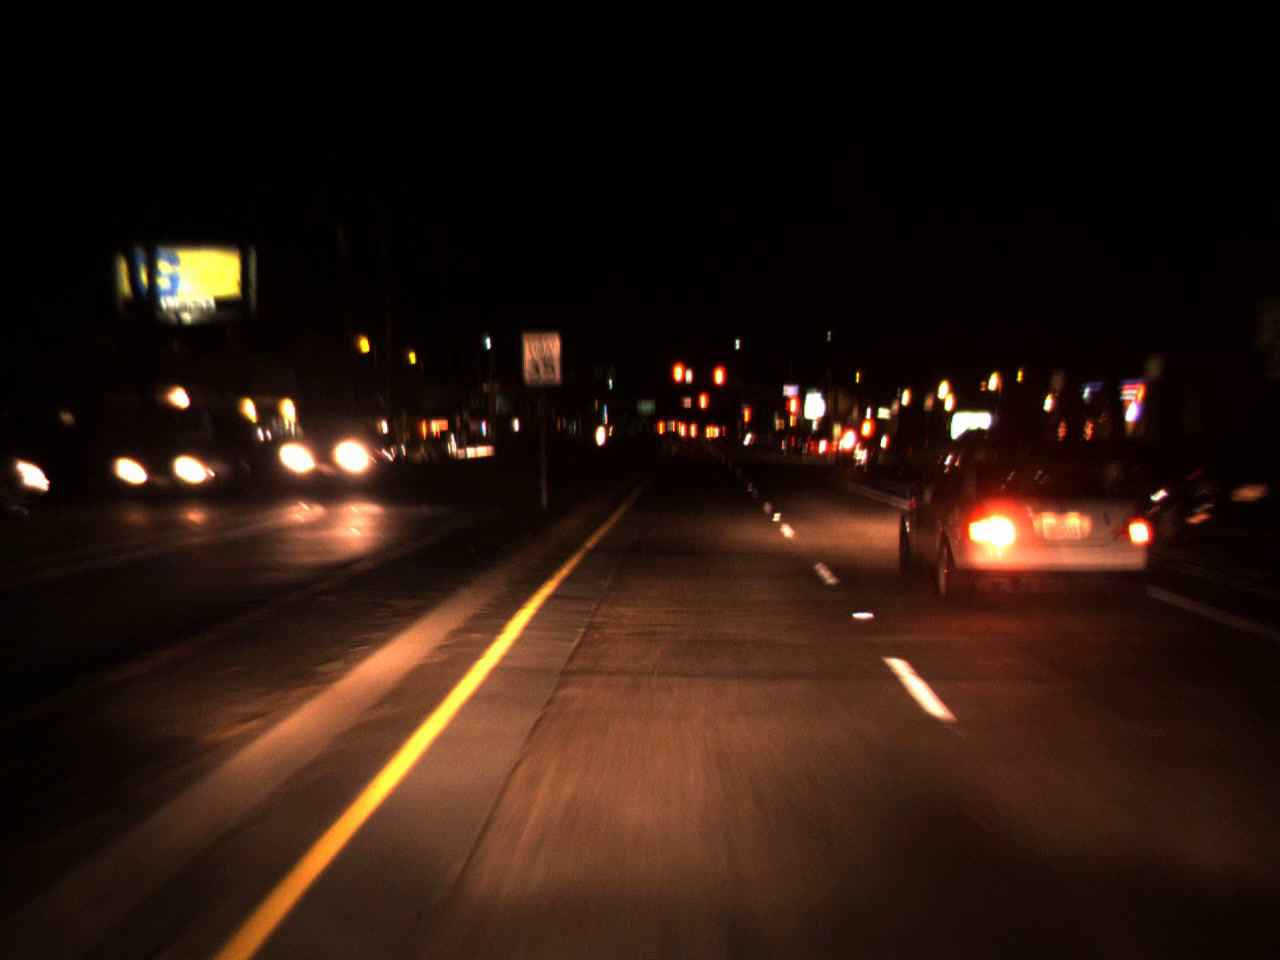stop: (708, 358, 730, 417), (778, 391, 808, 434), (669, 358, 688, 409), (697, 390, 709, 427), (743, 405, 750, 437)
